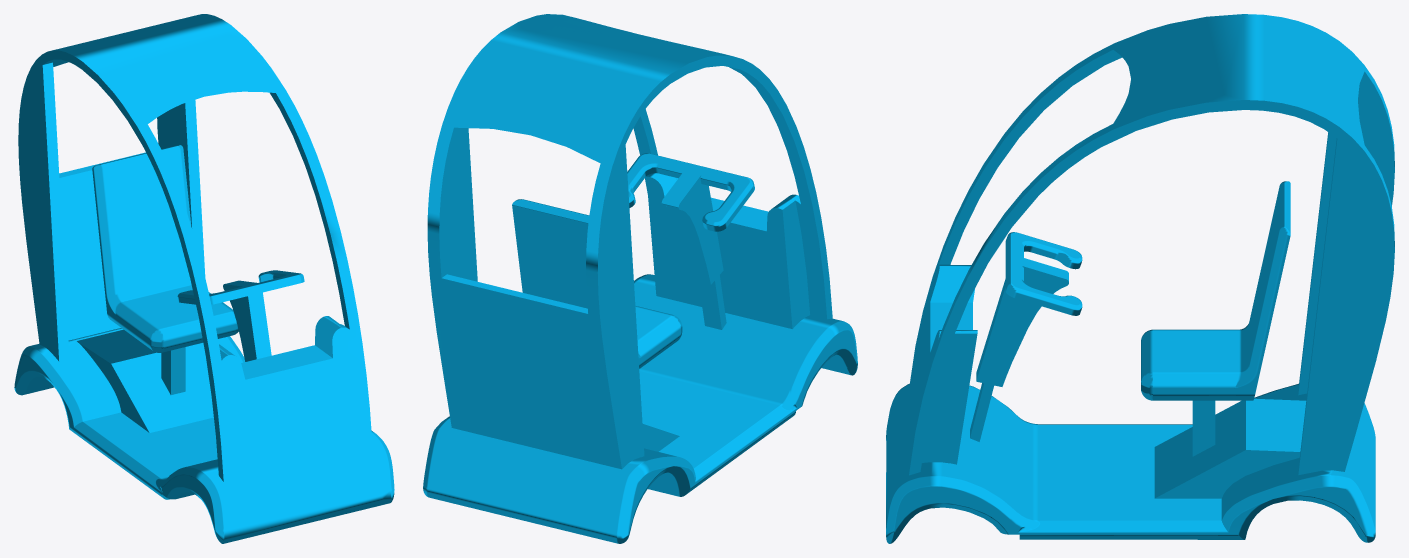
File: podcarv3.dae
3 renders of one model, left to right at view 1: azimuth 30°, elevation 25°; view 2: azimuth 150°, elevation 25°; view 3: azimuth 270°, elevation 25°, orthographic. The views are drawn at different scales.
Parts seen in each view (by area): view 1: Body2; view 2: Body2; view 3: Body2.
Part boxes in pixels (<box>): Body2: <box>14,14,394,543</box>; Body2: <box>423,14,857,543</box>; Body2: <box>886,14,1394,543</box>.
Bounding box in the file's own units: 0.84 × 1.75 × 1.67.
